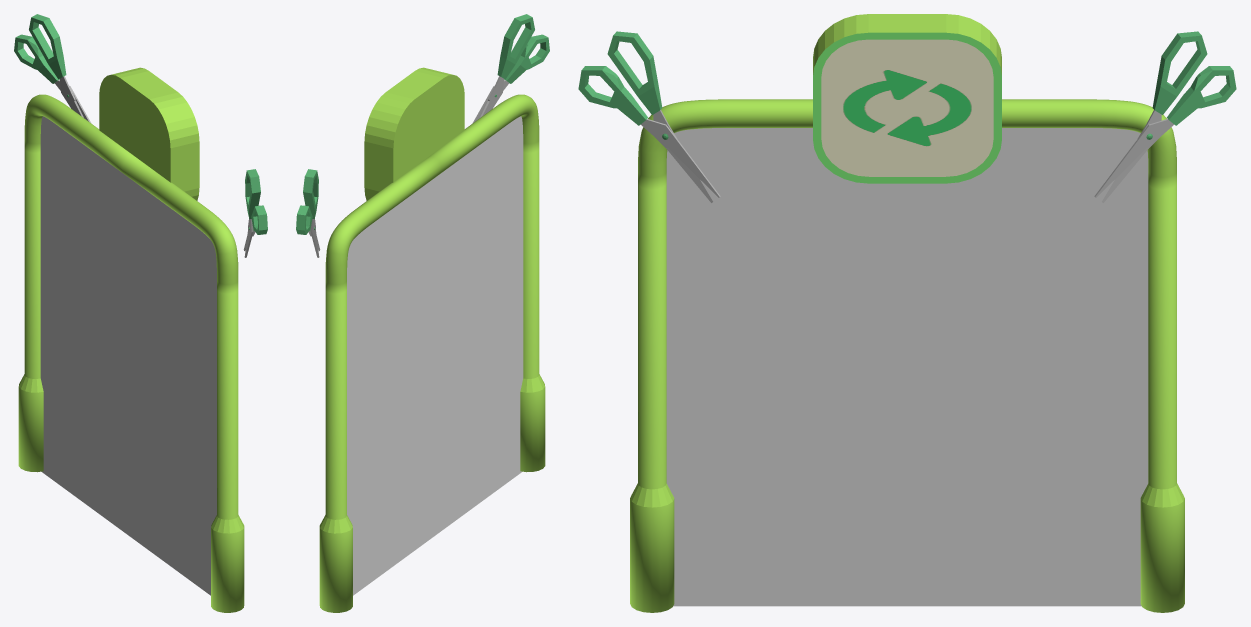
Rendered from Degistirme_Kapisi.fbx.
3 views of the same model, side by side, from view 1: azimuth 30°, elevation 25°; view 2: azimuth 150°, elevation 25°; view 3: azimuth 270°, elevation 25° (orthographic). The views are drawn at different scales.
Parts seen in each view (by area): view 1: Kapi Transperent, Cikolata_Kapisi.002; view 2: Kapi Transperent, Cikolata_Kapisi.002; view 3: Kapi Transperent, Cikolata_Kapisi.002.
Part boxes in pixels (x1,y1,x2,y2): Kapi Transperent: (40, 116, 216, 595); Cikolata_Kapisi.002: (14, 14, 267, 612); Kapi Transperent: (347, 116, 523, 595); Cikolata_Kapisi.002: (296, 14, 549, 612); Kapi Transperent: (666, 128, 1148, 606); Cikolata_Kapisi.002: (578, 14, 1236, 612).
Size of the model in its own units: 79.88 by 591 by 593.
